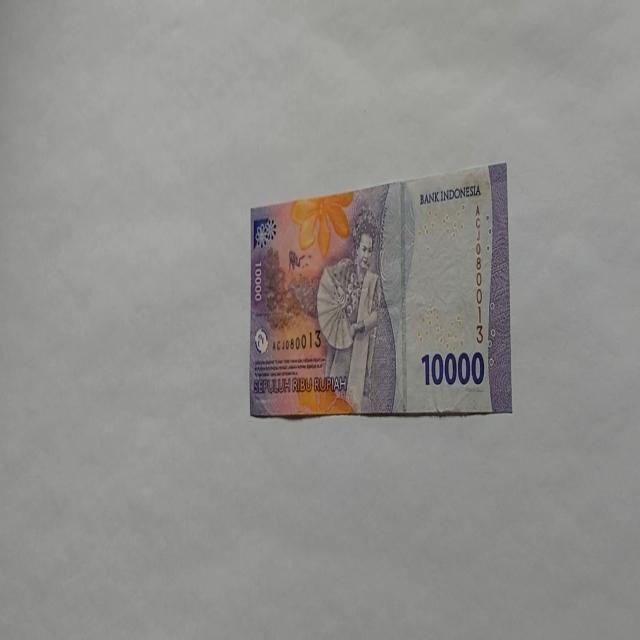sepuluh ribu rupiah: (248, 160, 512, 420)
